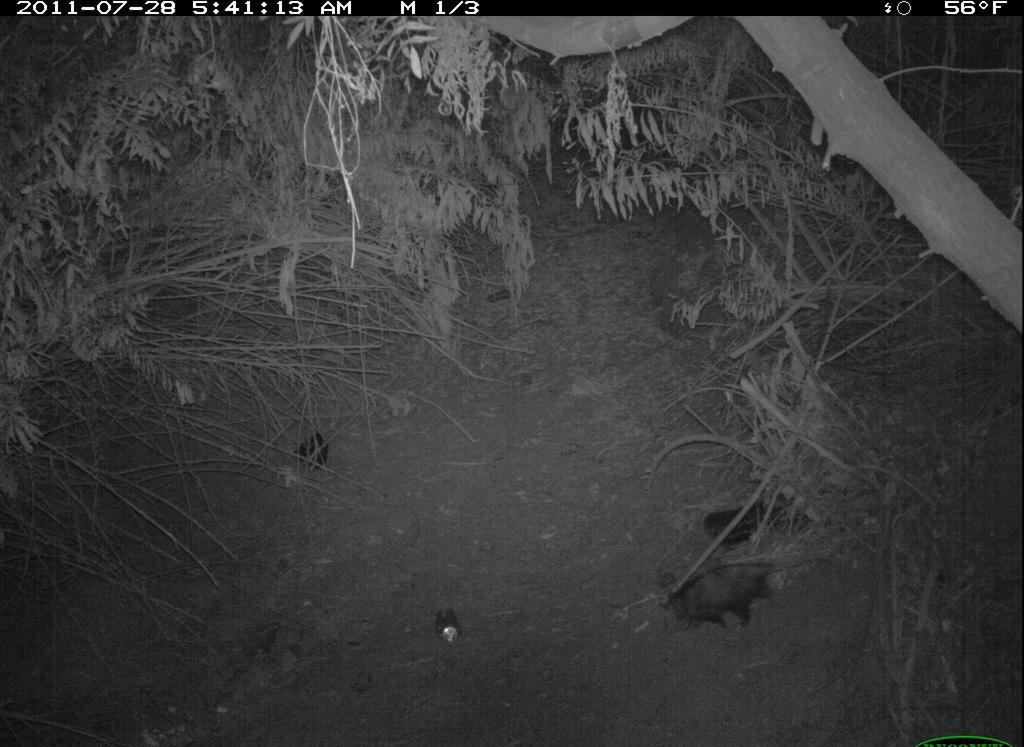opossum: (656, 553, 838, 639)
